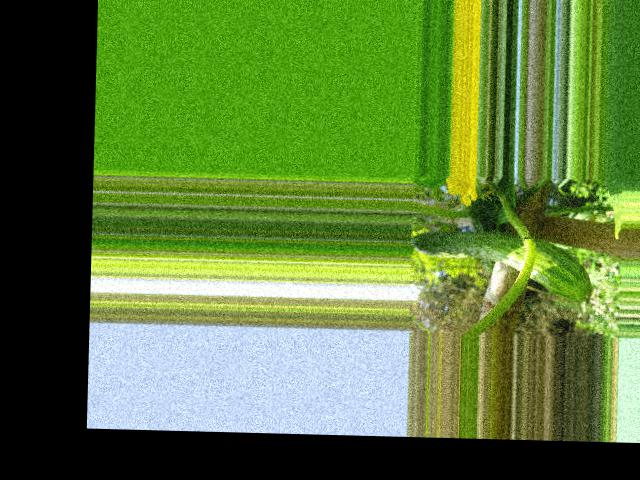cucumber: (409, 229, 593, 301)
